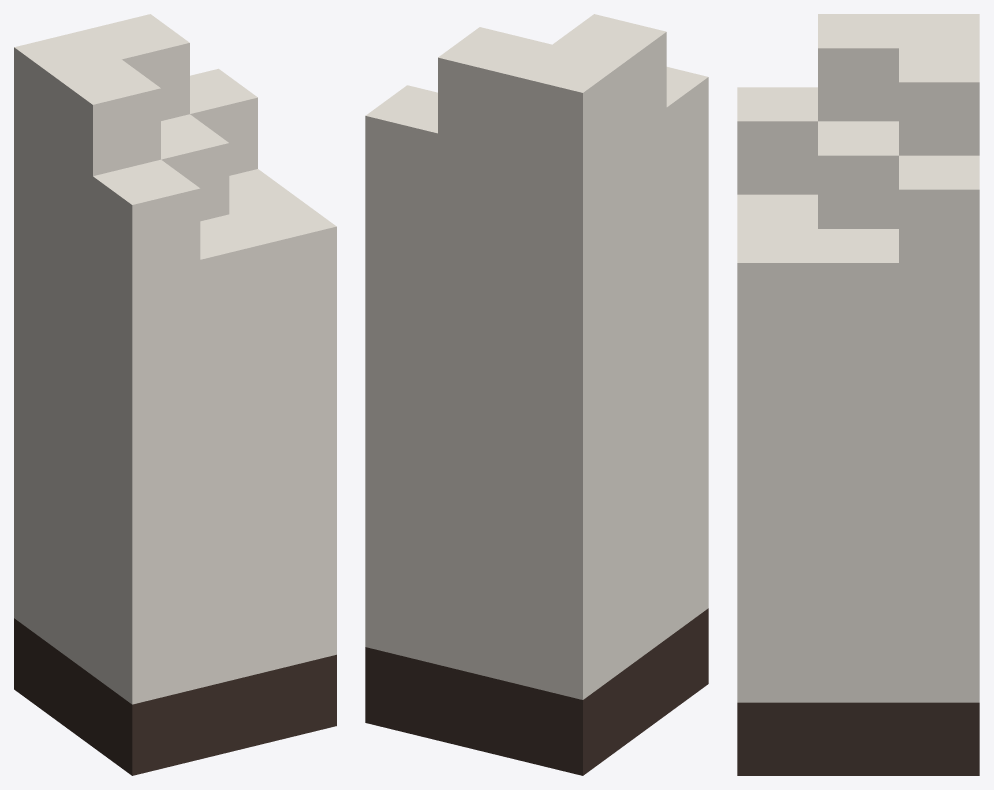
The model's file is calf__leg_br.glb.
3 views of the same model, side by side, from view 1: azimuth 30°, elevation 25°; view 2: azimuth 150°, elevation 25°; view 3: azimuth 270°, elevation 25° (orthographic). The views are drawn at different scales.
Parts seen in each view (by area): view 1: calf__leg_br; view 2: calf__leg_br; view 3: calf__leg_br.
Boxes of the visible parts, x1,y1,x2,y2 form: calf__leg_br: (14, 14, 336, 775); calf__leg_br: (365, 14, 708, 775); calf__leg_br: (737, 14, 979, 775).
Bounding box in the file's own units: 0.3 × 0.9 × 0.3.
1 material, 1 textured.
